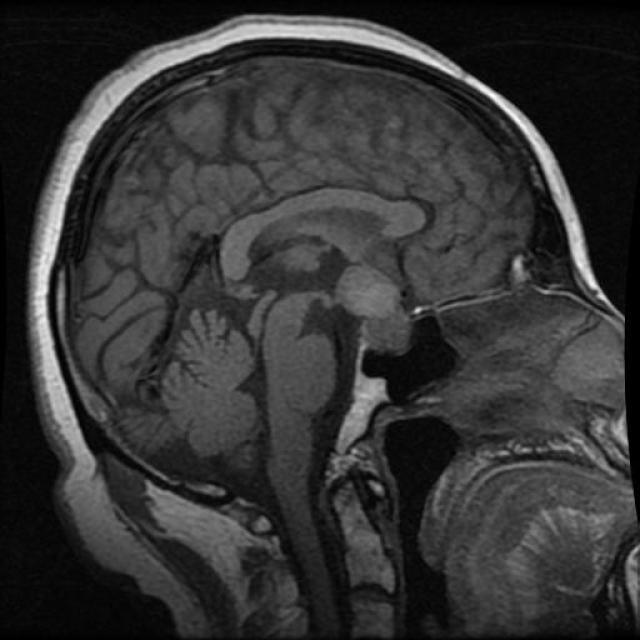pituitary: (320, 234, 428, 366)
